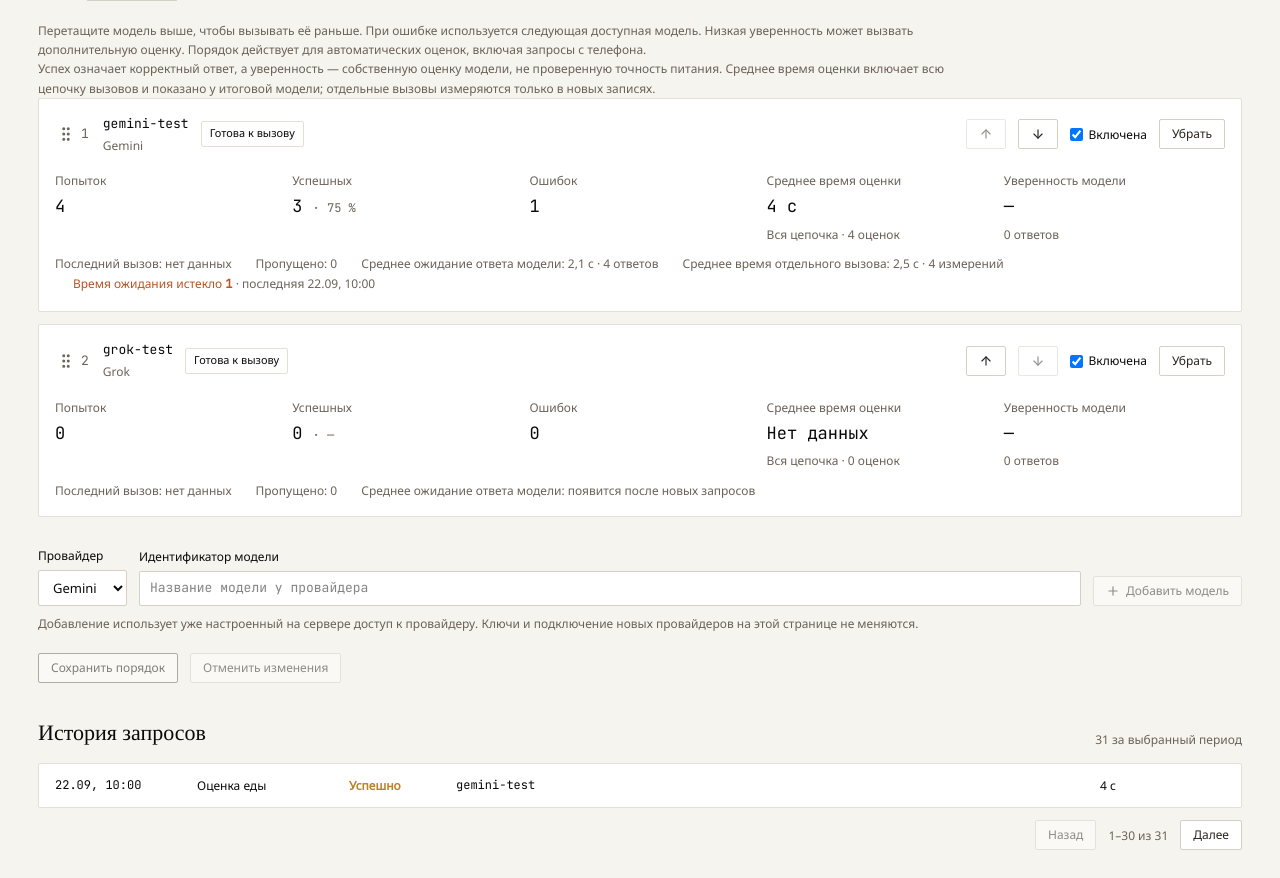
Test: model management › moves through request history pages
(page scrolled)
Expected: the text "31 за выбранный период" is shown, top-left (1095, 731), bottom-right (1242, 749)
Click the button "Далее": (1211, 835) top-left (1180, 820), bottom-right (1242, 850)
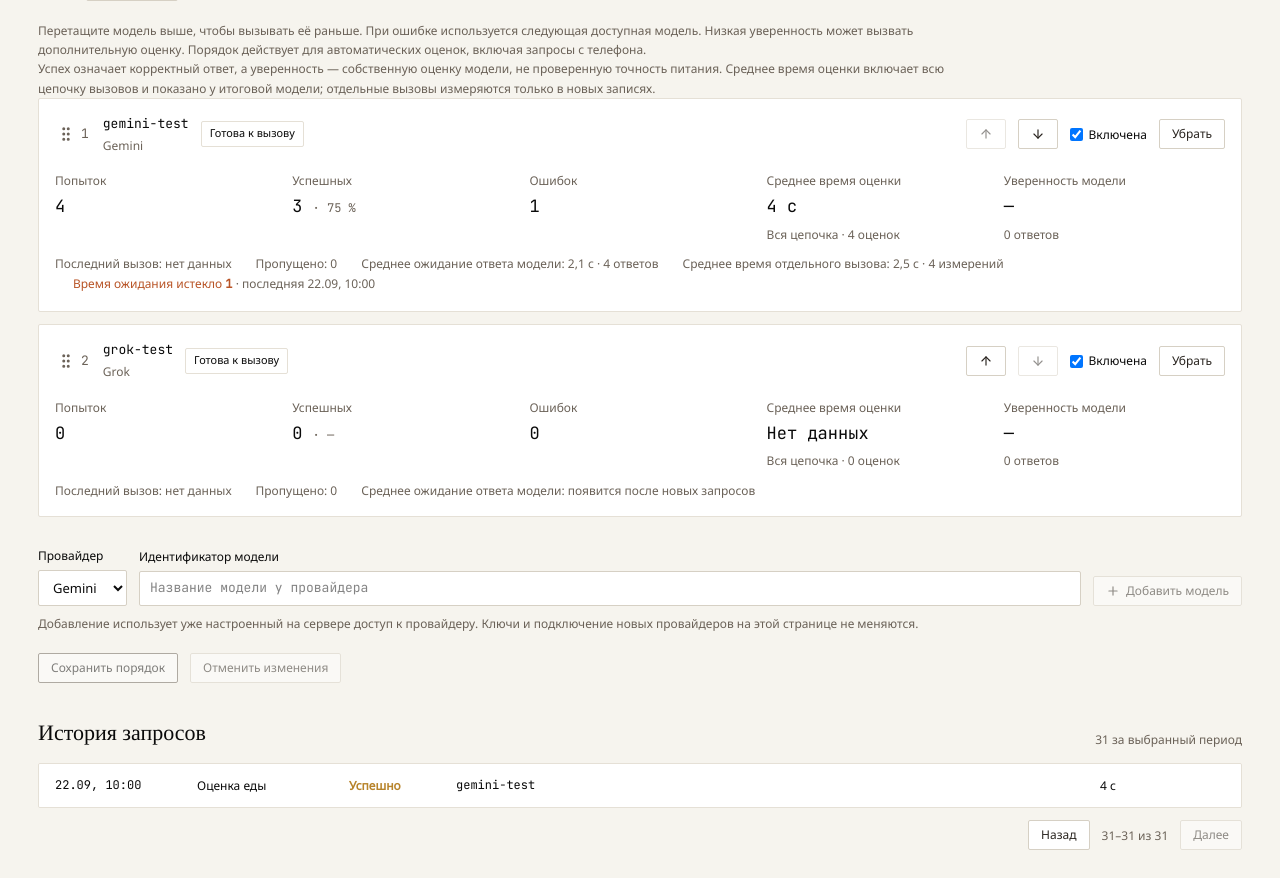
Result: the text "31–31 из 31" is shown at top-left (1102, 827), bottom-right (1168, 844)
